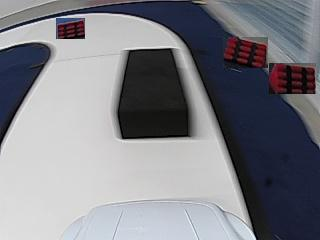block: (117, 48, 190, 138)
